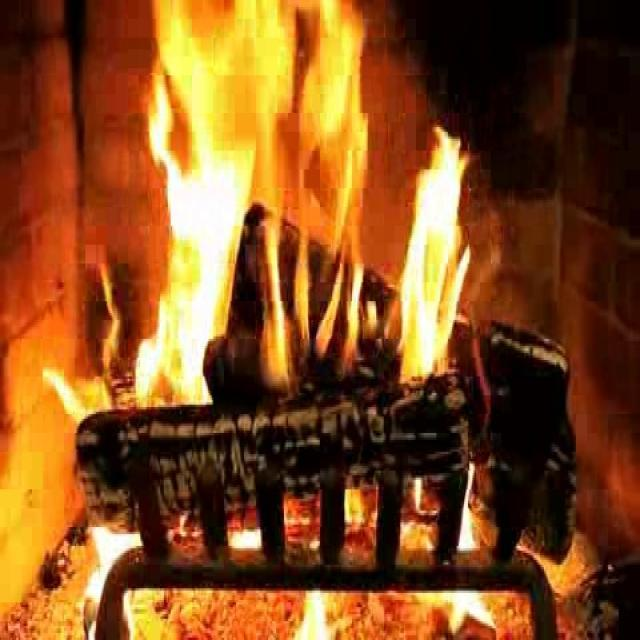Fire: (130, 7, 470, 402)
